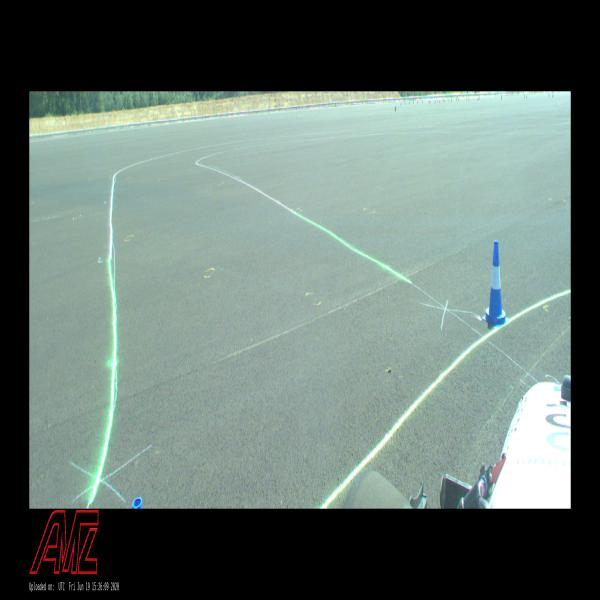blue_cone: (482, 240, 509, 327)
